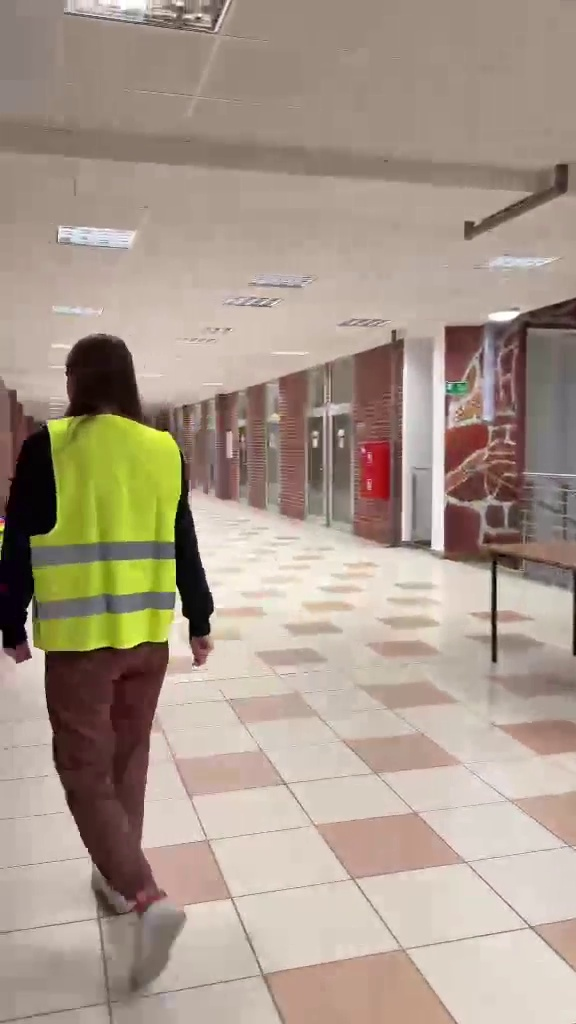vest: (8, 331, 218, 982)
